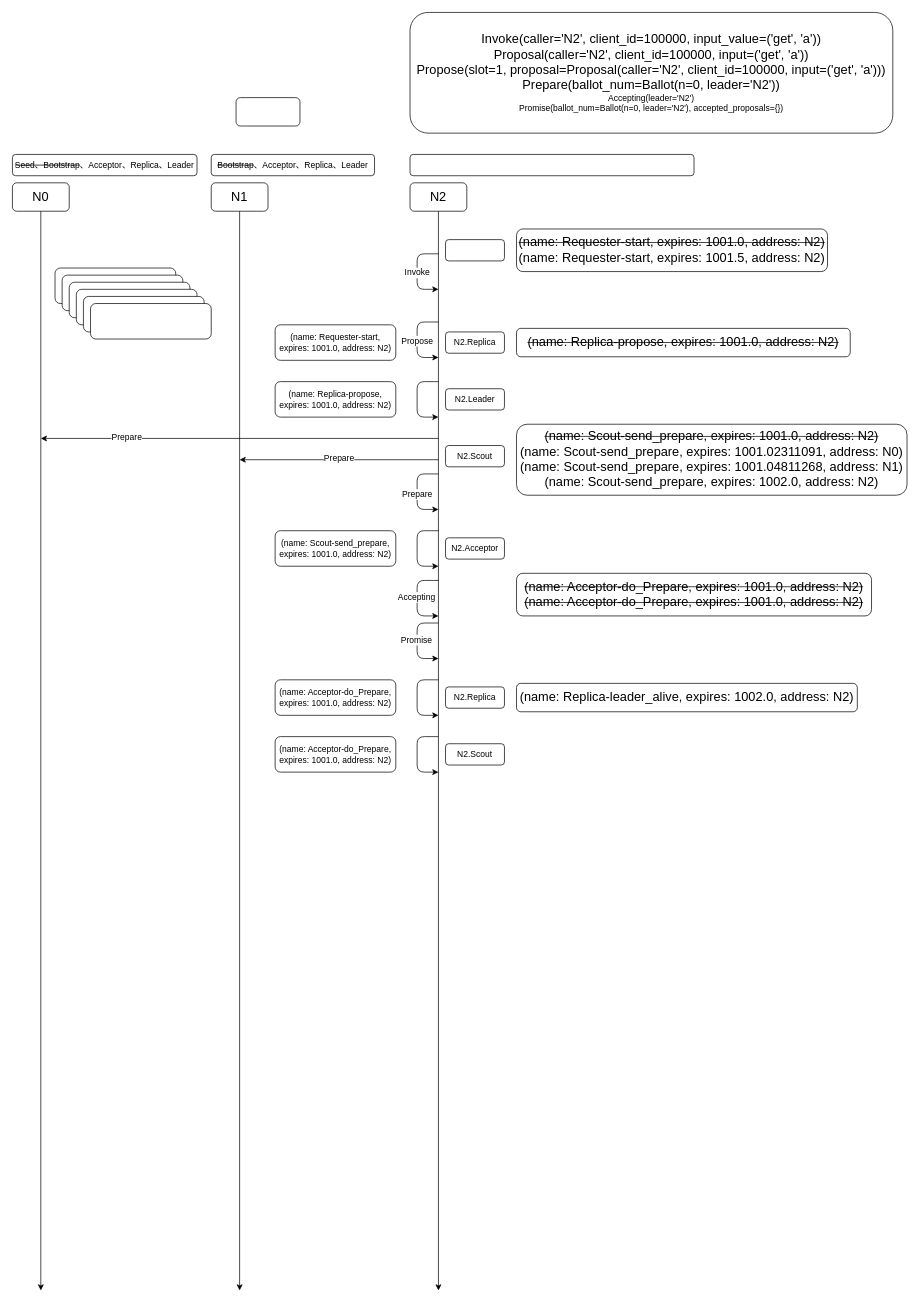
Some shapes in this 919 by 1309 pixel diagram are drawn without their labels. The shapes that lost their labels are listed below. From the top down, each one's box as (x1, y1, x2, y2) in pixels, then its label:
(235, 97, 300, 126): Network
(409, 154, 694, 176): Bootstrap 、Acceptor、Replica、Leader、Requester、Scout
(445, 239, 504, 261): N2.Requester
